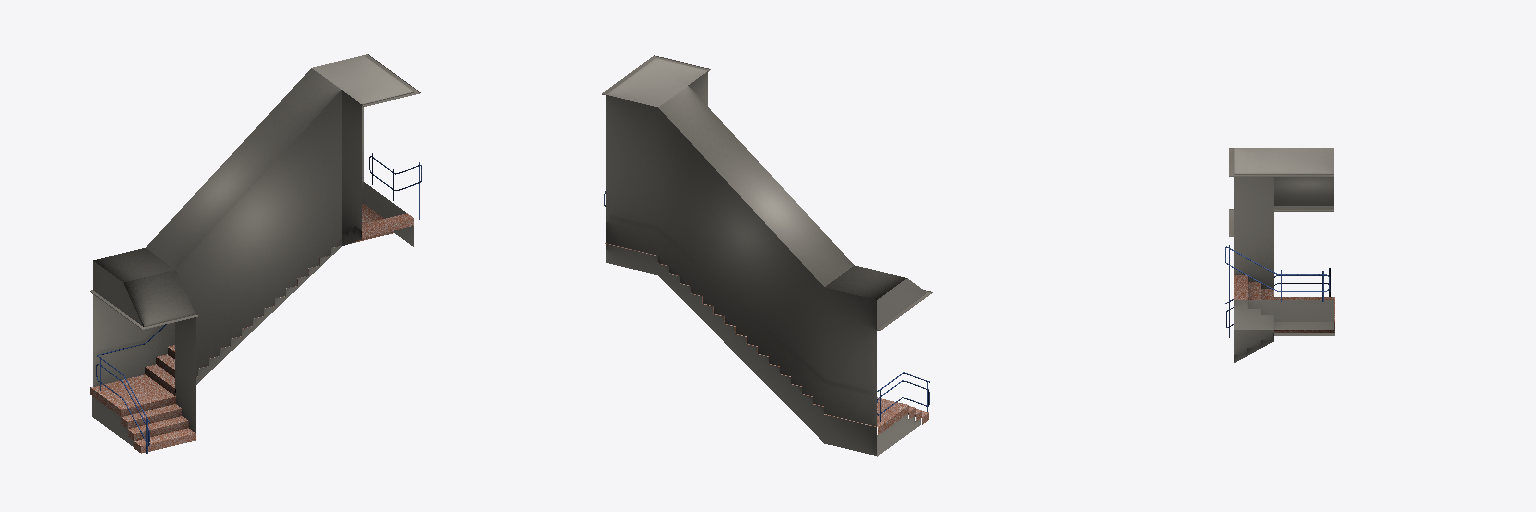
3 views of the same model, side by side, from view 1: azimuth 30°, elevation 25°; view 2: azimuth 150°, elevation 25°; view 3: azimuth 270°, elevation 25° (orthographic).
Visible parts, largest first — view 1: Cube_treppe; view 2: Cube_treppe; view 3: Cube_treppe.
Part boxes in pixels (bbox=[...]): Cube_treppe: bbox=[90, 54, 421, 453]; Cube_treppe: bbox=[602, 55, 932, 456]; Cube_treppe: bbox=[1225, 148, 1334, 362].
Size of the model in its own units: 6.9 by 7.02 by 2.37.
Materials: 4 (2 with a texture image).